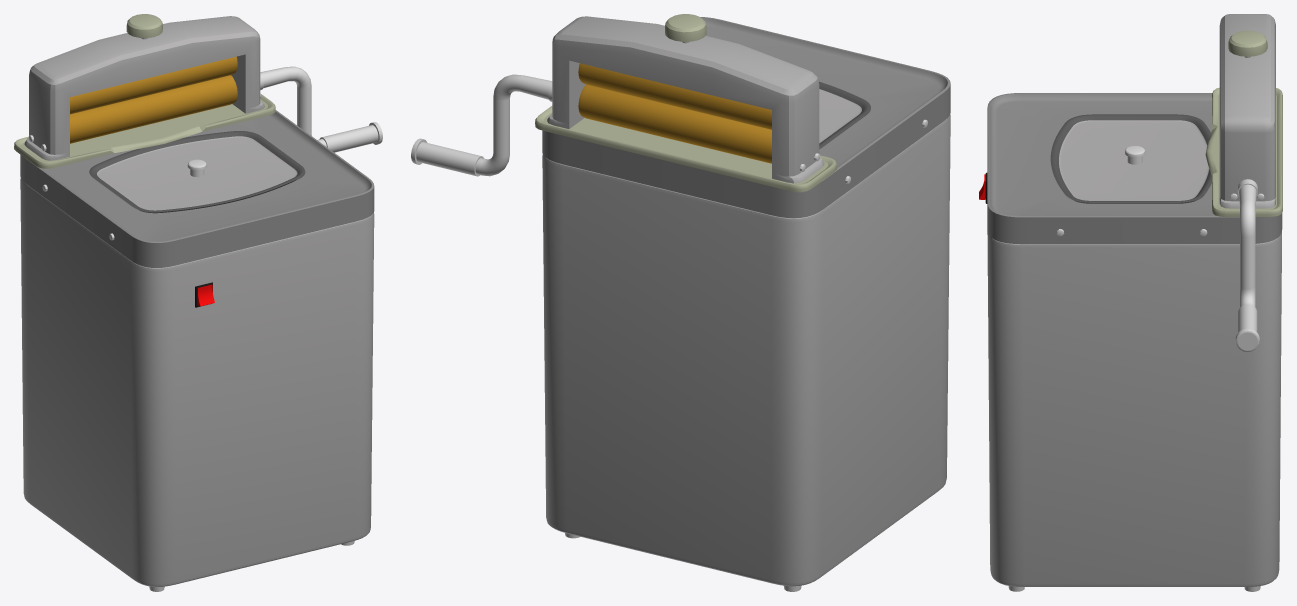
The model's file is washer 06 GLB.glb.
3 renders of one model, left to right at view 1: azimuth 30°, elevation 25°; view 2: azimuth 150°, elevation 25°; view 3: azimuth 270°, elevation 25°, orthographic. The views are drawn at different scales.
Visible parts, largest first — view 1: govde; view 2: govde; view 3: govde.
Boxes of the visible parts, x1,y1,x2,y2 form: govde: (14,14,382,591); govde: (411,14,950,591); govde: (979,14,1282,591).
Size of the model in its own units: 74.61 by 93.93 by 51.56.
